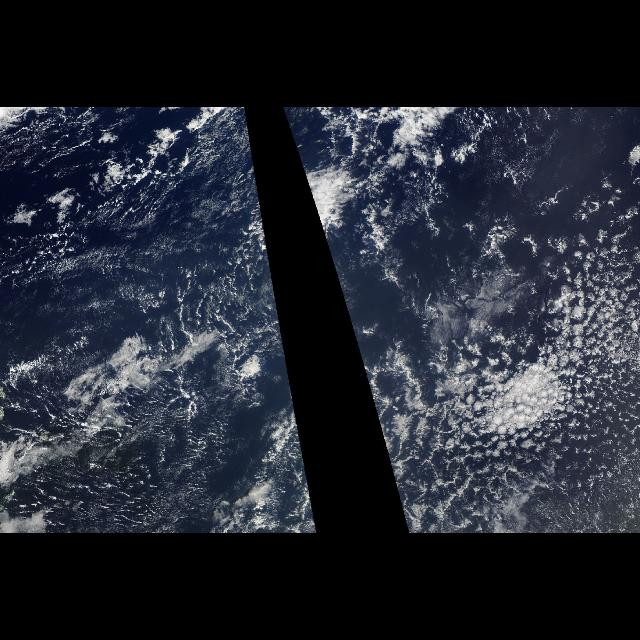Gravel: (367, 224, 635, 534), (305, 461, 317, 531)
Sugar: (4, 213, 236, 401)
